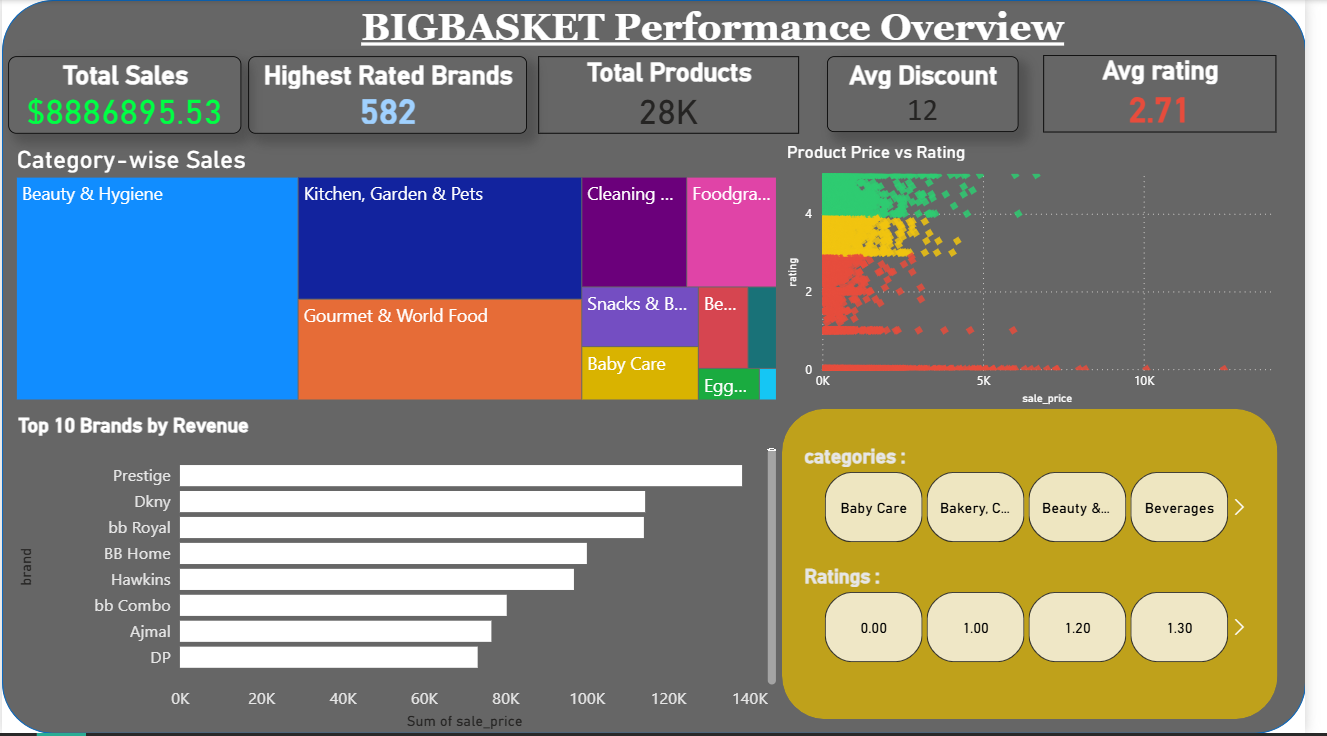

The page's visual inventory and layout, read from the dashboard file:
{"tool":"powerbi","page":{"name":"Page 1","canvas":[1280,720],"ordinal":0},"visuals":[{"type":"shape","box":[0,0,1280,720.3],"z":0},{"type":"shape","box":[765,401.8,486.4,304.8],"z":1000},{"type":"textbox","box":[202.8,0,990.2,74.6],"z":2000},{"type":"card","title":"Total Sales","fields":{"Values":["BigBasket Products.Measure"]},"box":[6.2,54.7,228.9,75.9],"z":3000},{"type":"card","title":"Avg rating","fields":{"Values":["BigBasket Products.reating"]},"box":[1022.5,53.5,228.9,75.9],"z":4000},{"type":"card","title":"Highest Rated Brands","fields":{"Values":["BigBasket Products.highest_rated"]},"box":[241.3,54.7,273.7,75.9],"z":5000},{"type":"card","title":"Avg Discount","fields":{"Values":["BigBasket Products.avgdis"]},"box":[809.8,54.7,187.8,74.6],"z":6000},{"type":"card","title":"Total Products","fields":{"Values":["BigBasket Products.total product1"]},"box":[526.2,54.7,256.3,75.9],"z":7000},{"type":"treemap","title":"Category-wise Sales","fields":{"Group":["BigBasket Products.category"],"Values":["Sum(BigBasket Products.sale_price)"]},"box":[10,141.8,755.1,255],"z":8000},{"type":"clusteredBarChart","title":"Top 10 Brands by Revenue","fields":{"Category":["BigBasket Products.brand"],"Y":["Sum(BigBasket Products.sale_price)"]},"box":[11.2,405.5,753.8,314.7],"z":9000},{"type":"scatterChart","title":" Product Price vs Rating","fields":{"X":["BigBasket Products.sale_price"],"Y":["BigBasket Products.rating"]},"box":[765,138.1,496.3,263.7],"z":10000},{"type":"advancedSlicerVisual","title":"categories :","fields":{"Values":["BigBasket Products (2).category"]},"box":[782.5,436.6,447.8,100.8],"z":11000},{"type":"advancedSlicerVisual","title":"Ratings :","fields":{"Values":["BigBasket Products.rating"]},"box":[782.5,554.8,447.8,100.8],"z":12001}]}

Visuals, with their boxes in screenshot pixels (x1, y1, x2, y2), scaled from the page's 1280x720 canvas onto the 1327x736 screenshot:
shape: (x1=0, y1=0, x2=1326, y2=735)
shape: (x1=793, y1=411, x2=1297, y2=722)
textbox: (x1=210, y1=0, x2=1237, y2=76)
"Total Sales" card: (x1=6, y1=56, x2=244, y2=134)
"Avg rating" card: (x1=1060, y1=55, x2=1297, y2=132)
"Highest Rated Brands" card: (x1=250, y1=56, x2=534, y2=134)
"Avg Discount" card: (x1=840, y1=56, x2=1034, y2=132)
"Total Products" card: (x1=546, y1=56, x2=811, y2=134)
"Category-wise Sales" treemap: (x1=10, y1=145, x2=793, y2=406)
"Top 10 Brands by Revenue" clusteredBarChart: (x1=12, y1=415, x2=793, y2=735)
" Product Price vs Rating" scatterChart: (x1=793, y1=141, x2=1308, y2=411)
"categories :" advancedSlicerVisual: (x1=811, y1=446, x2=1275, y2=549)
"Ratings :" advancedSlicerVisual: (x1=811, y1=567, x2=1275, y2=670)
